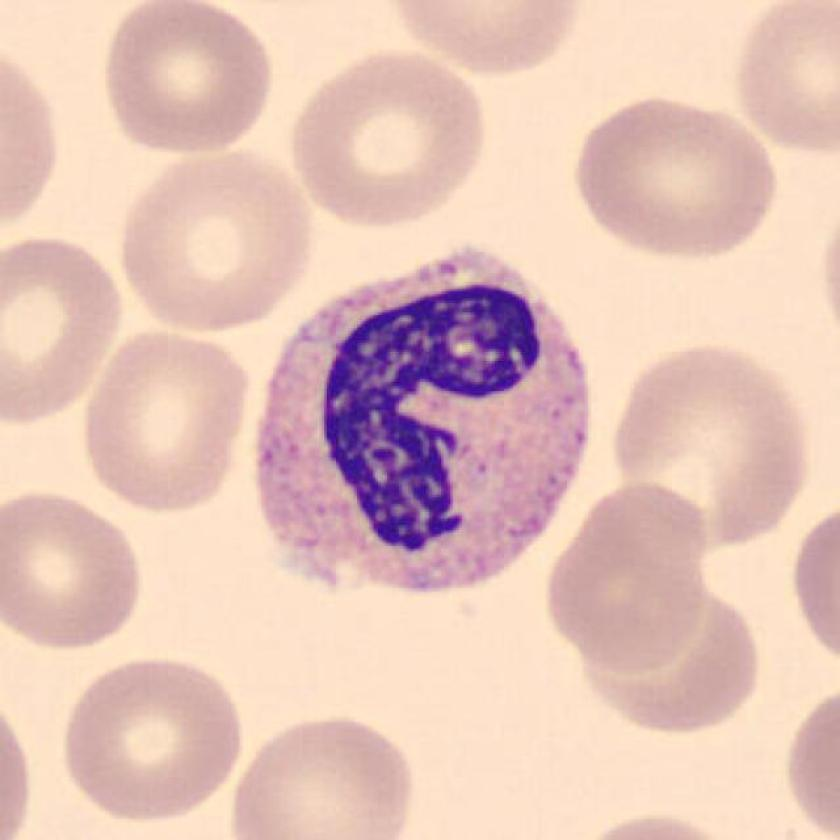neutrophil: (255, 248, 591, 596)
